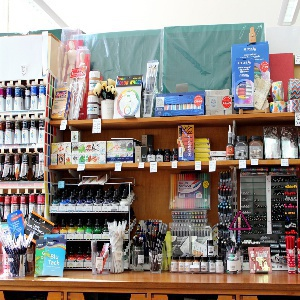triangle: (227, 209, 255, 234)
